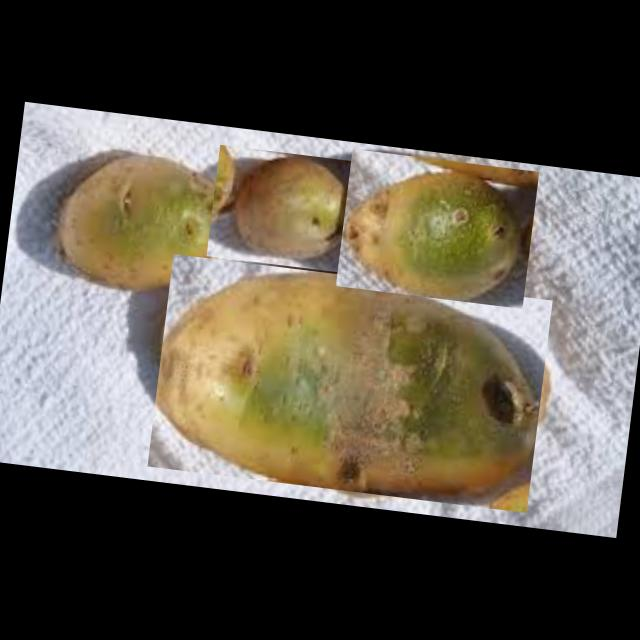Defected potato: (147, 253, 552, 512), (38, 146, 234, 312), (336, 148, 538, 308), (206, 144, 365, 274)
